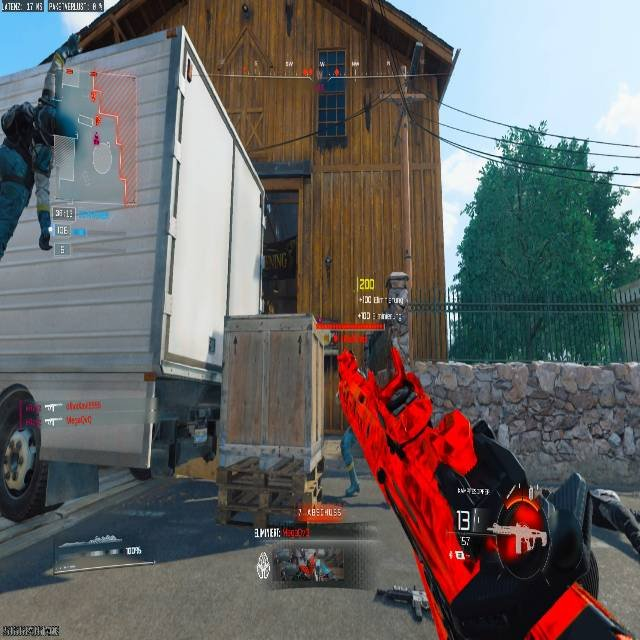head: (337, 348, 356, 373)
player: (0, 87, 77, 255), (362, 279, 412, 390)
